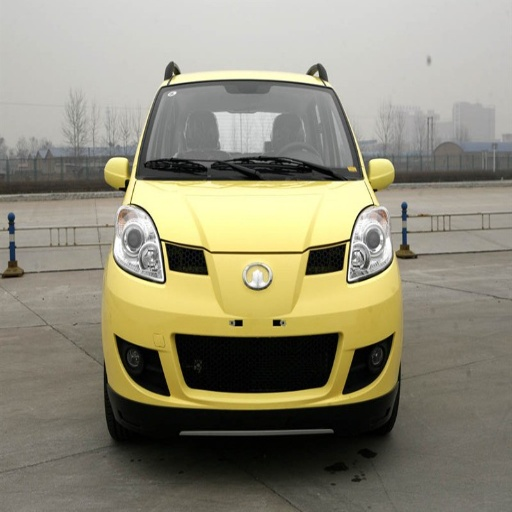front_bumper: (107, 240, 392, 431)
front_right_light: (114, 205, 165, 282)
hood: (133, 180, 370, 251)
